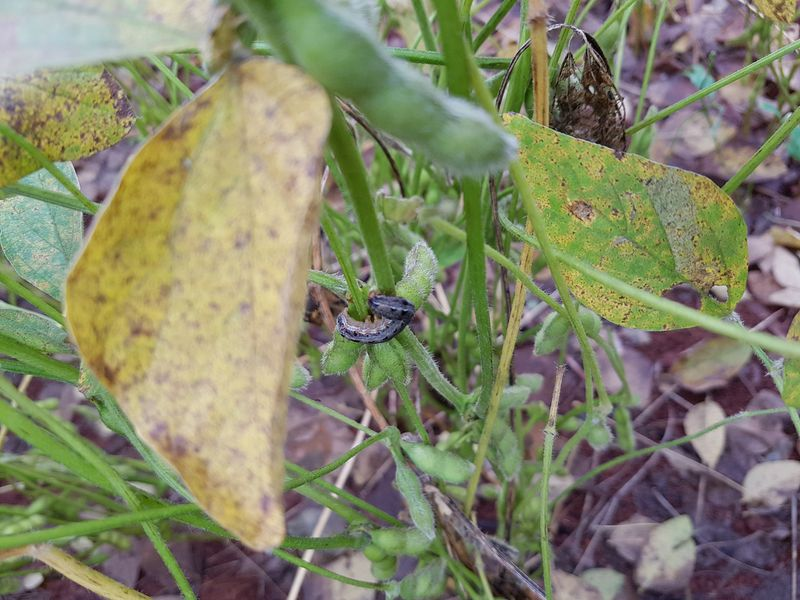Spodoptera_albula: (326, 278, 426, 354)
